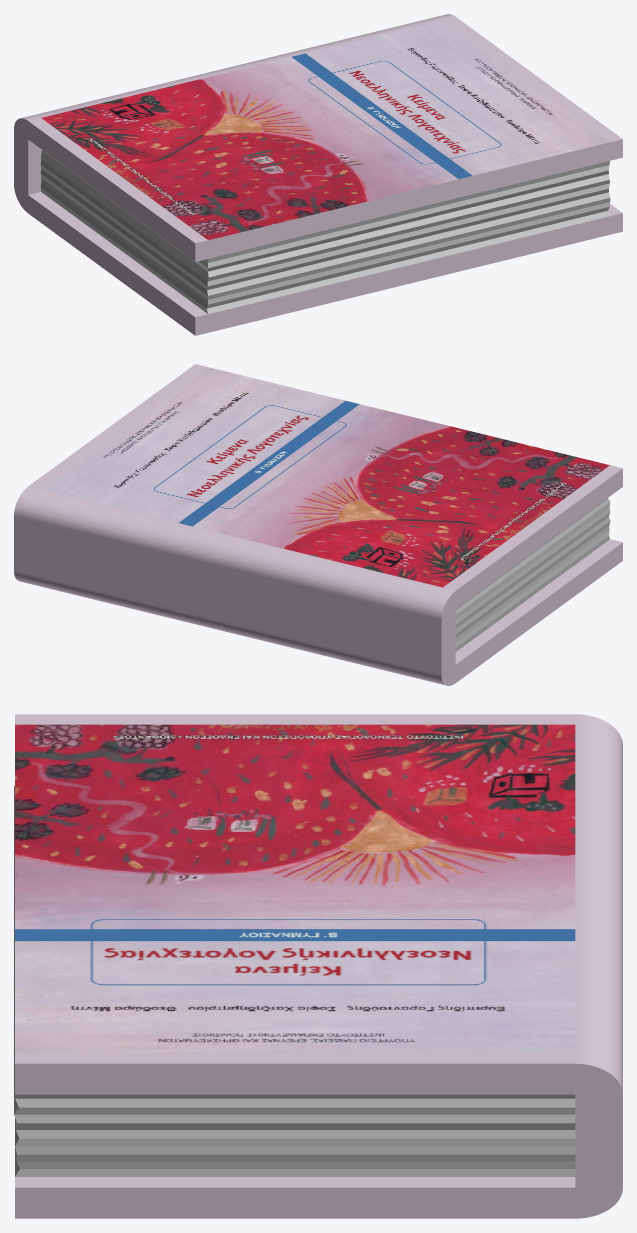
File: book6.obj
3 renders of one model, top to bottom at view 1: azimuth 30°, elevation 25°; view 2: azimuth 150°, elevation 25°; view 3: azimuth 270°, elevation 25°, orthographic. The views are drawn at different scales.
Visible parts, largest first — view 1: Cube_3, Cube_1, Cube_2; view 2: Cube_3, Cube_1, Cube_2; view 3: Cube_3, Cube_1, Cube_2.
Boxes of the visible parts, box(x1,y1,x2,y2) form: Cube_3: box(41, 20, 609, 240); Cube_1: box(14, 14, 622, 335); Cube_2: box(40, 150, 610, 314); Cube_3: box(41, 367, 609, 587); Cube_1: box(14, 364, 622, 685); Cube_2: box(455, 498, 610, 651); Cube_3: box(15, 724, 575, 1053); Cube_1: box(15, 714, 622, 1218); Cube_2: box(14, 786, 575, 1176).
Bounding box in the file's own units: 186 × 38.44 × 137.
Materials: 3 (2 with a texture image).
